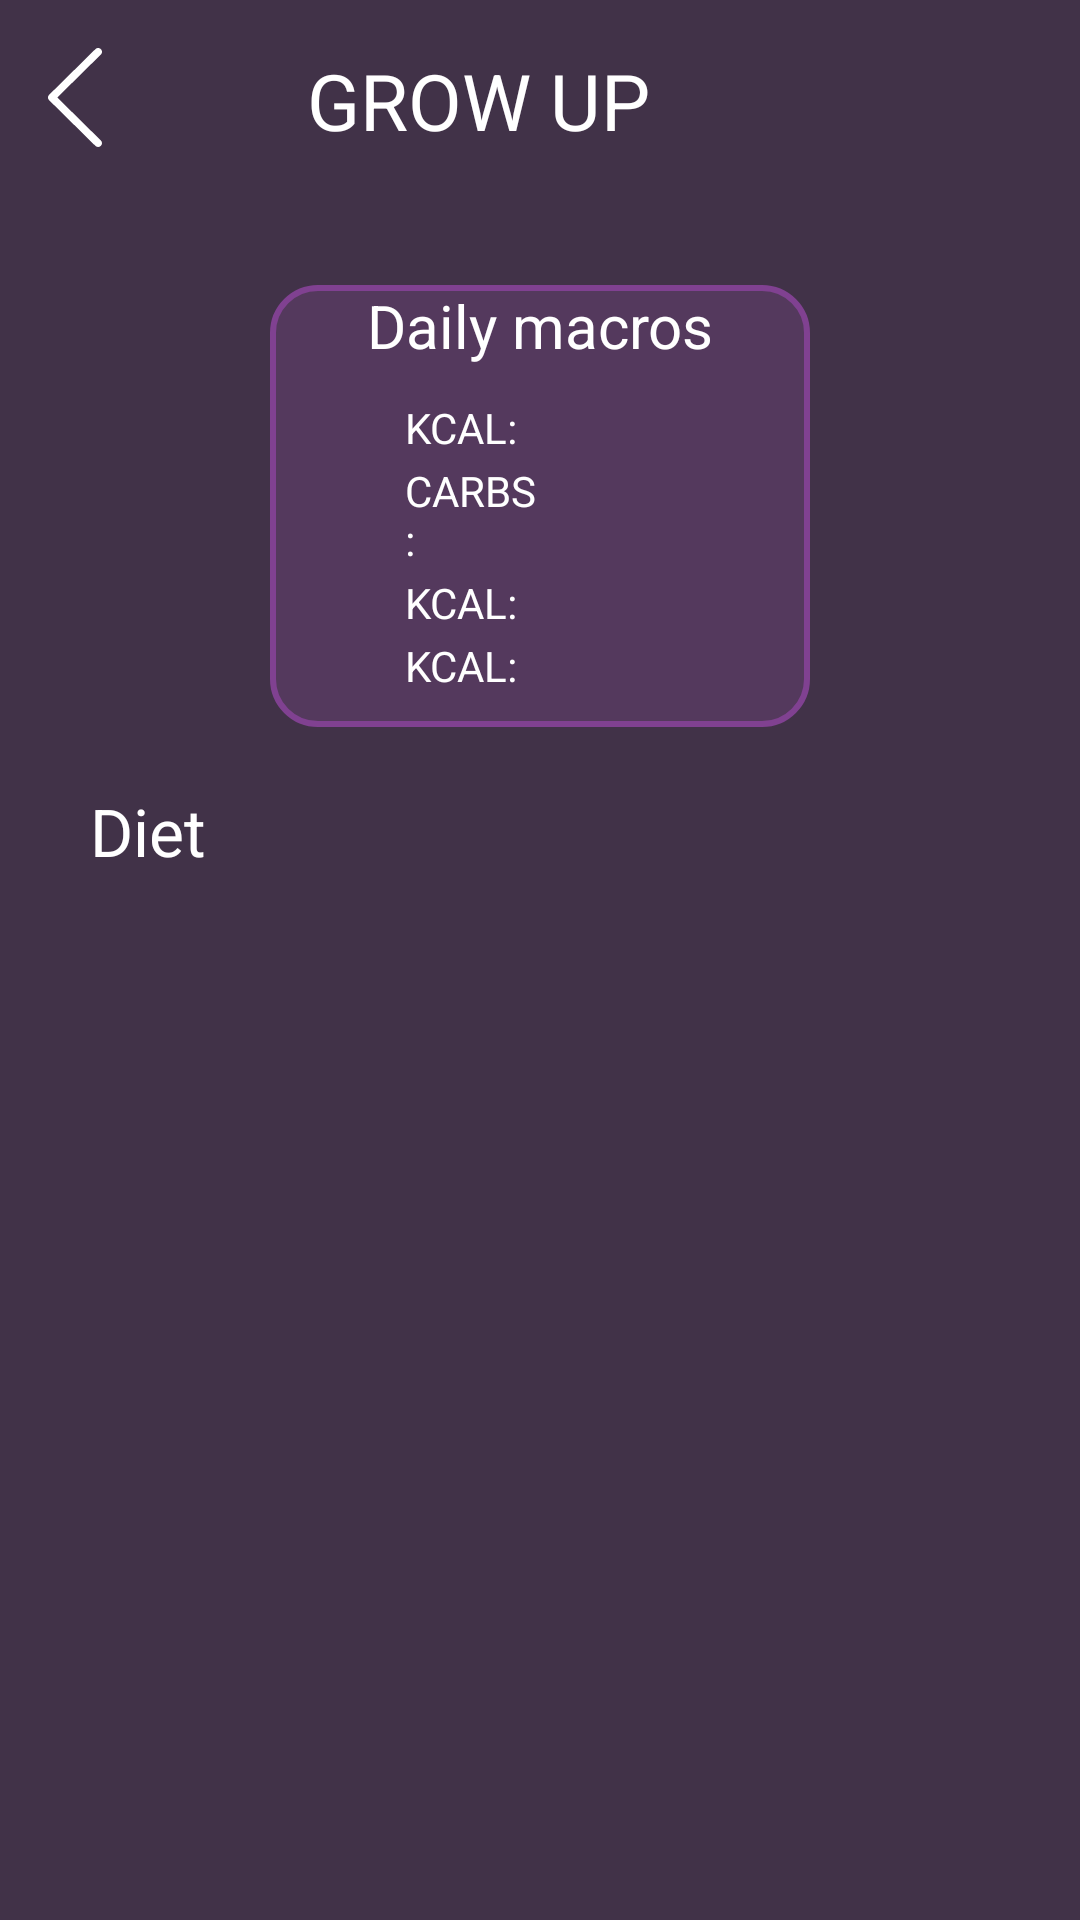

Where icons sit on this 1080*1920 app screen, as (x1, y1, x2, y2):
back: (48, 48, 102, 147)
